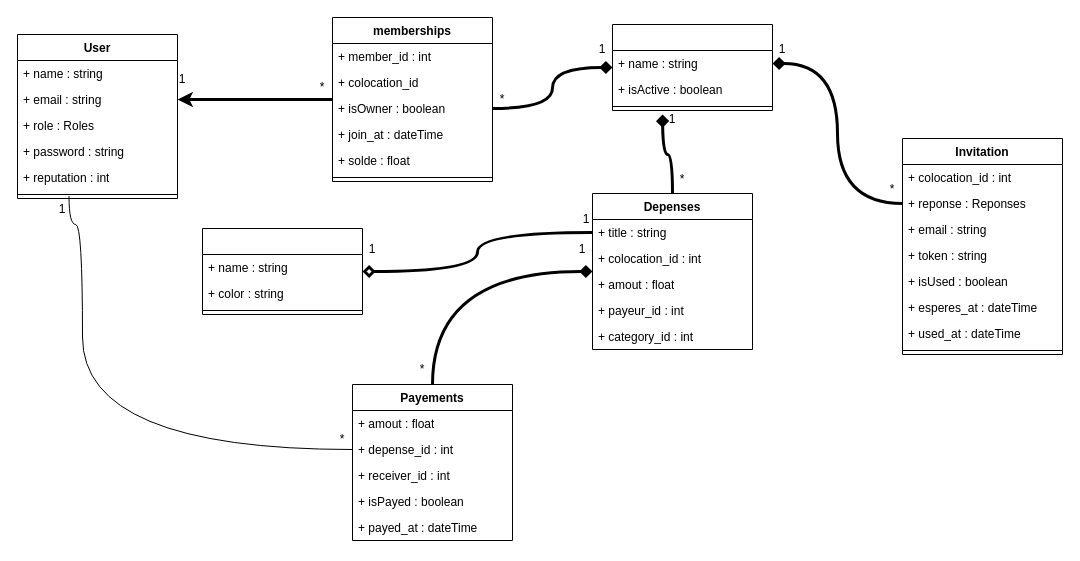
Image size: 1080x561. Some labels were removed from this diagram. Each missing label, with the box of its shape:
Categories: (202, 228, 362, 314)
Colocations: (612, 24, 772, 110)
